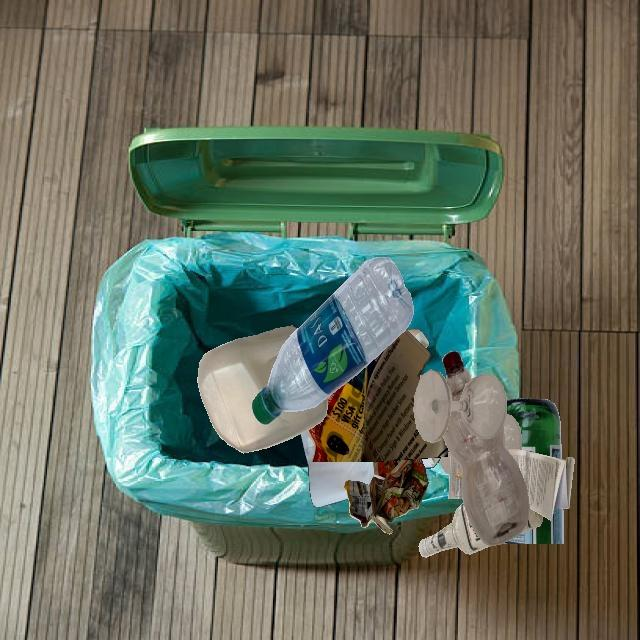glass: (414, 369, 507, 443), (418, 503, 490, 557), (506, 398, 562, 459), (501, 508, 564, 544), (441, 446, 507, 457), (504, 414, 522, 450), (456, 467, 462, 479)
paper: (306, 329, 449, 462), (331, 344, 444, 476), (344, 458, 428, 534), (507, 449, 575, 520)
plastic: (252, 257, 413, 425), (197, 325, 328, 453), (443, 410, 530, 546)
